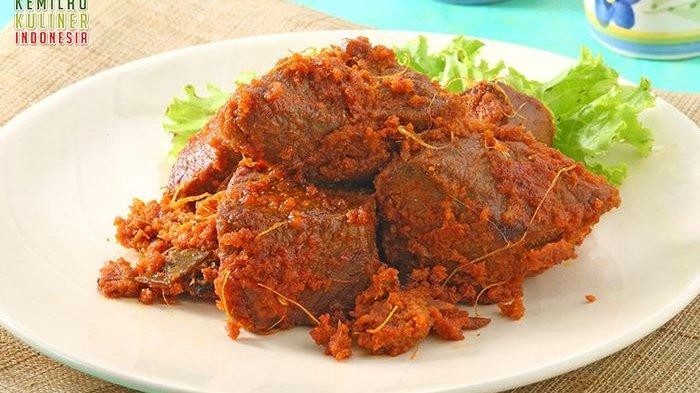rendang: (87, 30, 638, 352)
